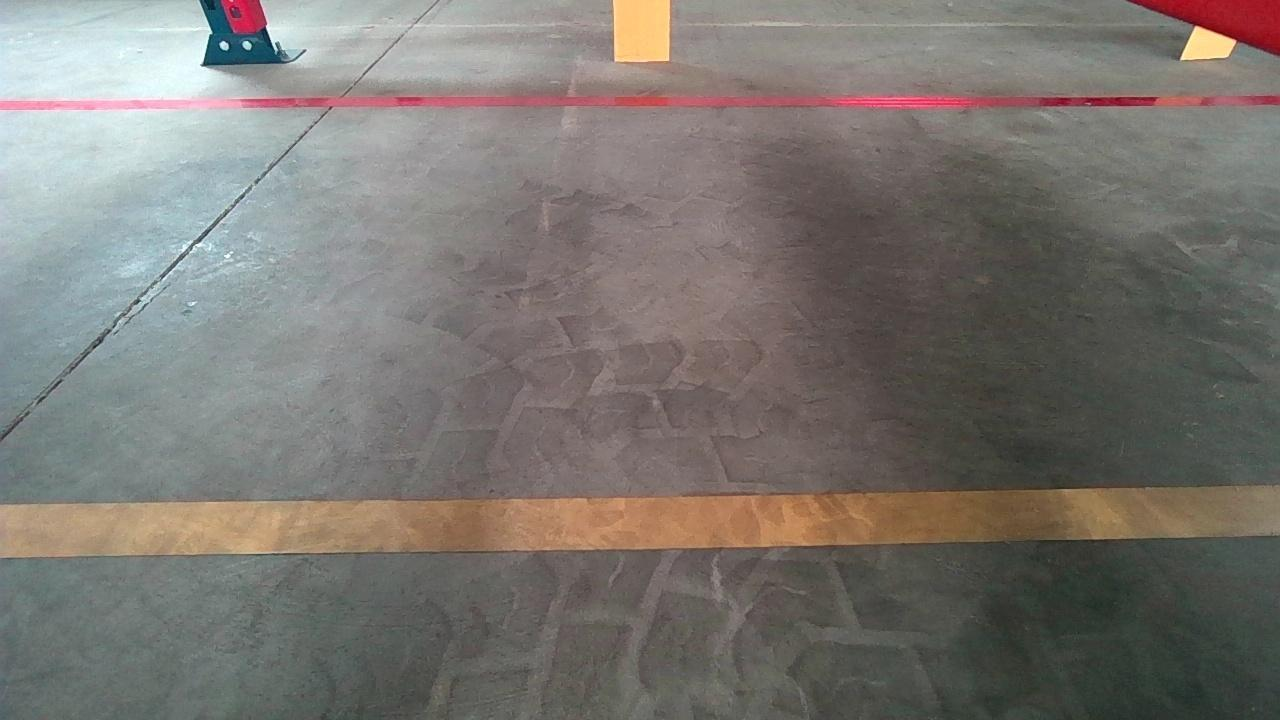orange_strip: (1175, 13, 1248, 62), (614, 0, 671, 61)
red_line: (1, 89, 1280, 115)
yellow_line: (2, 483, 1279, 559)
